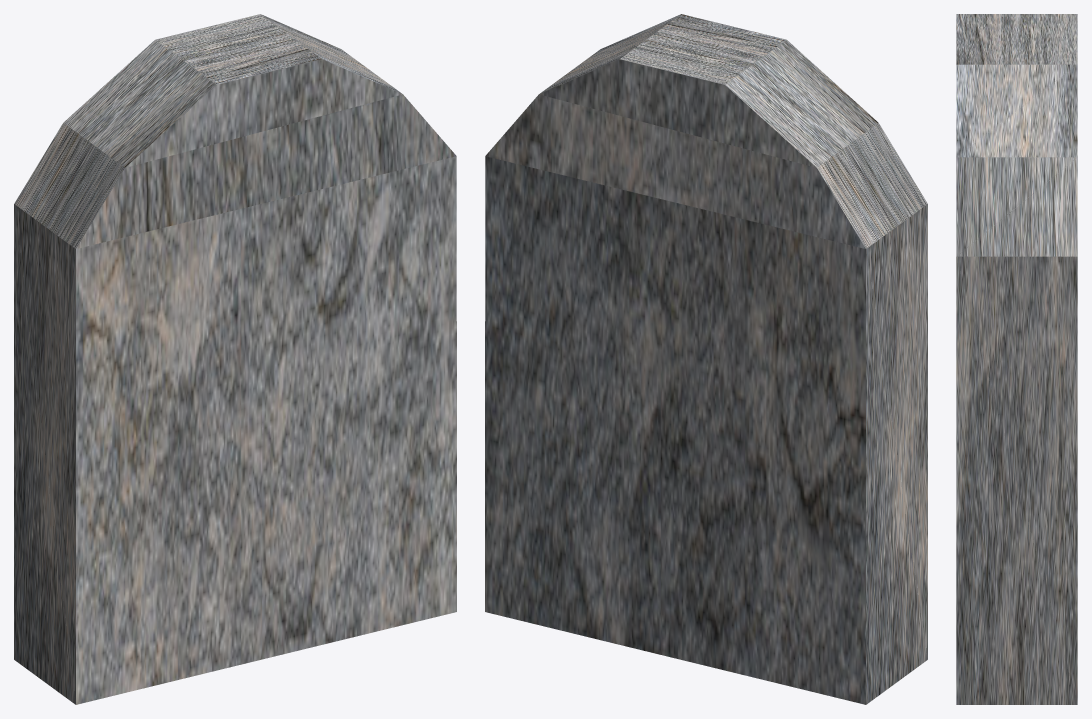
File: tombstone.glb
The picture shows the model from 3 angles, left to right: view 1: azimuth 30°, elevation 25°; view 2: azimuth 150°, elevation 25°; view 3: azimuth 270°, elevation 25°; orthographic projection.
Parts seen in each view (by area): view 1: Cube.003; view 2: Cube.003; view 3: Cube.003.
Part boxes in pixels (<box>): Cube.003: <box>14,14,456,704</box>; Cube.003: <box>485,14,927,704</box>; Cube.003: <box>956,14,1077,704</box>.
Size of the model in its own units: 2 by 2.94 by 0.5617.
1 material, 1 textured.
